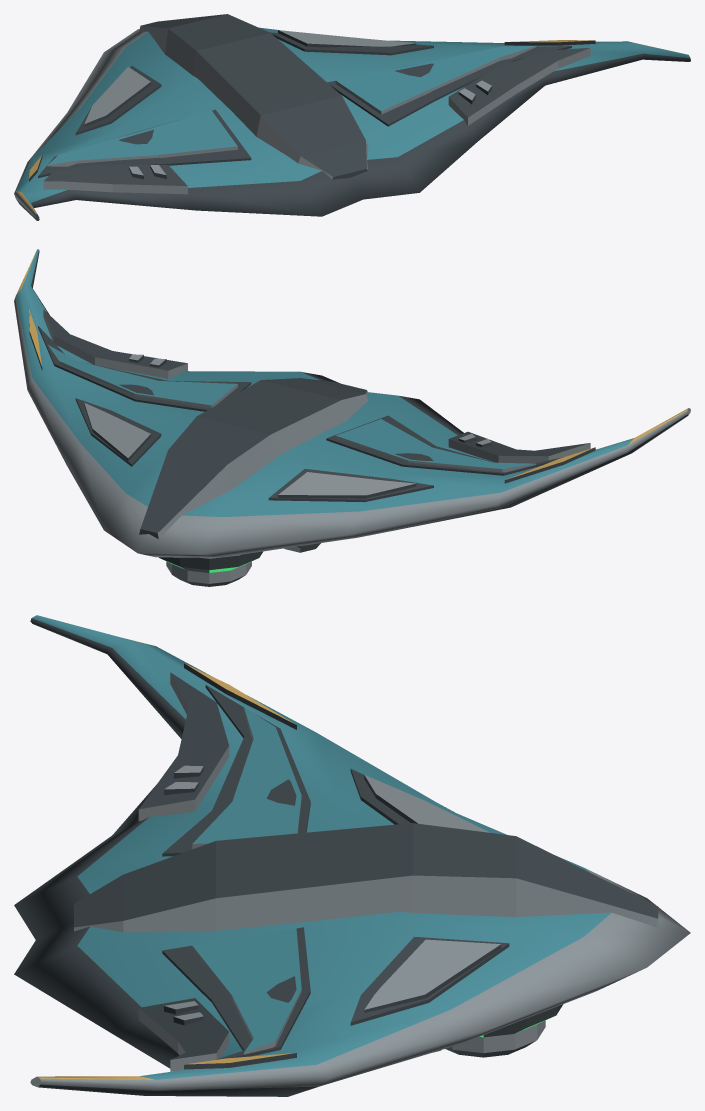
File: normal.glb
3 views of the same model, one above another, from view 1: azimuth 30°, elevation 25°; view 2: azimuth 150°, elevation 25°; view 3: azimuth 270°, elevation 25° (orthographic). The views are drawn at different scales.
Parts seen in each view (by area): view 1: Skat; view 2: Skat; view 3: Skat.
Part boxes in pixels (x1,y1,x2,y2): Skat: [14, 14, 690, 220]; Skat: [14, 249, 690, 586]; Skat: [14, 615, 690, 1096].
Bounding box in the file's own units: 2 × 0.386 × 1.24.
